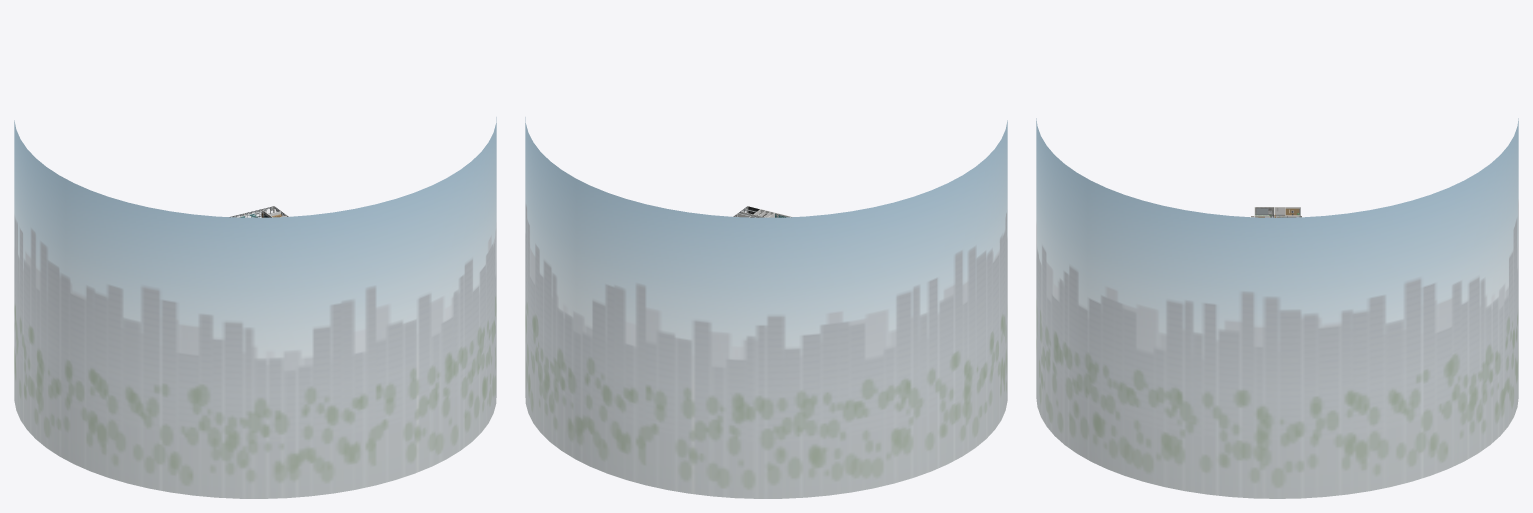
File: sede-grupo-vex.glb
The picture shows the model from 3 angles, left to right: view 1: azimuth 30°, elevation 25°; view 2: azimuth 150°, elevation 25°; view 3: azimuth 270°, elevation 25°; orthographic projection.
Bounding box in the file's own units: 140 × 90 × 140.
Materials: 154 (94 with a texture image).
